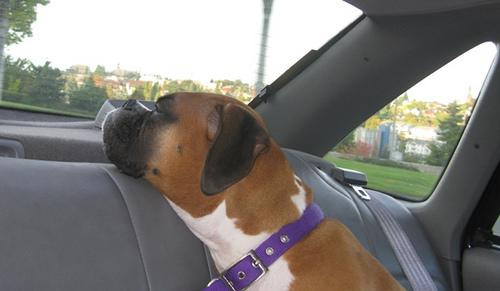dog-boxer: (99, 90, 269, 201)
